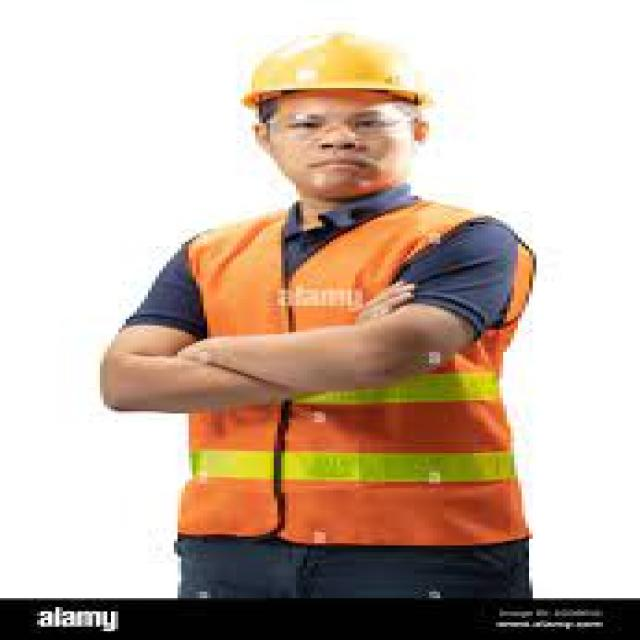Reflective-Jacket: (170, 202, 536, 548)
Safety-Helmet: (226, 26, 440, 114)
